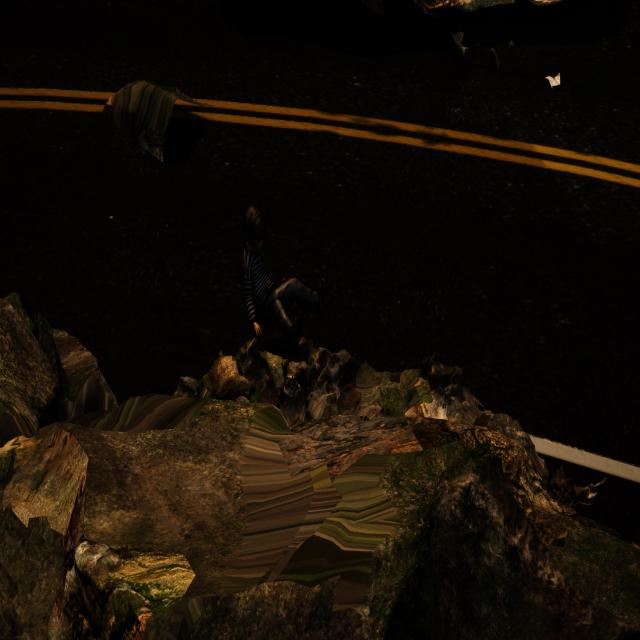Human: (235, 206, 331, 356)
